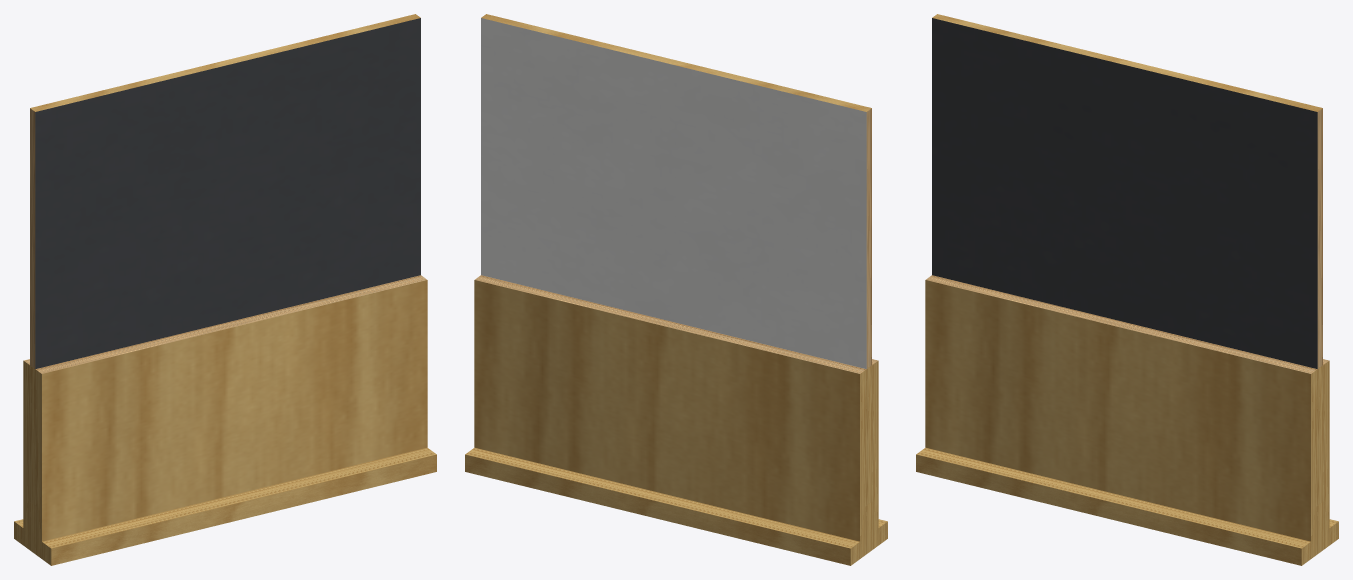
Rendered from SM_Quadro.fbx.
3 views of the same model, side by side, from view 1: azimuth 30°, elevation 25°; view 2: azimuth 150°, elevation 25°; view 3: azimuth 330°, elevation 25° (orthographic).
Visible parts, largest first — view 1: SM_Quadro; view 2: SM_Quadro; view 3: SM_Quadro.
Boxes of the visible parts, box(x1,y1,x2,y2) form: SM_Quadro: box(14, 14, 436, 565); SM_Quadro: box(465, 14, 887, 565); SM_Quadro: box(916, 14, 1338, 565).
Size of the model in its own units: 166 by 182 by 27.67.
